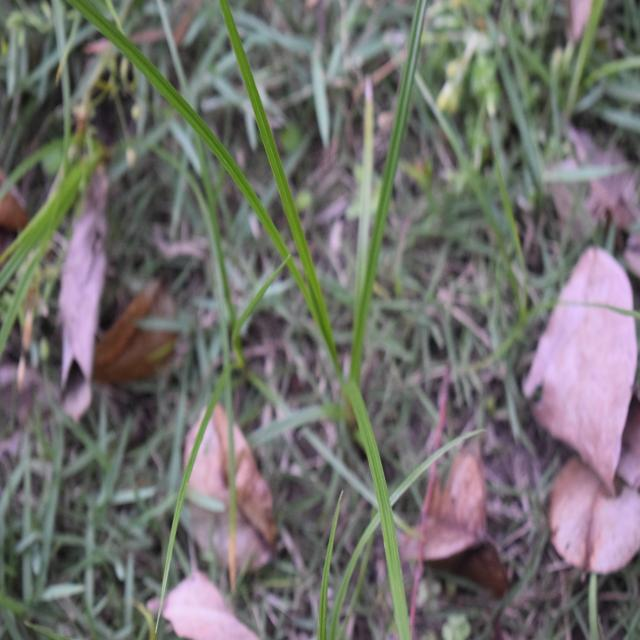sedge: (132, 22, 506, 626)
